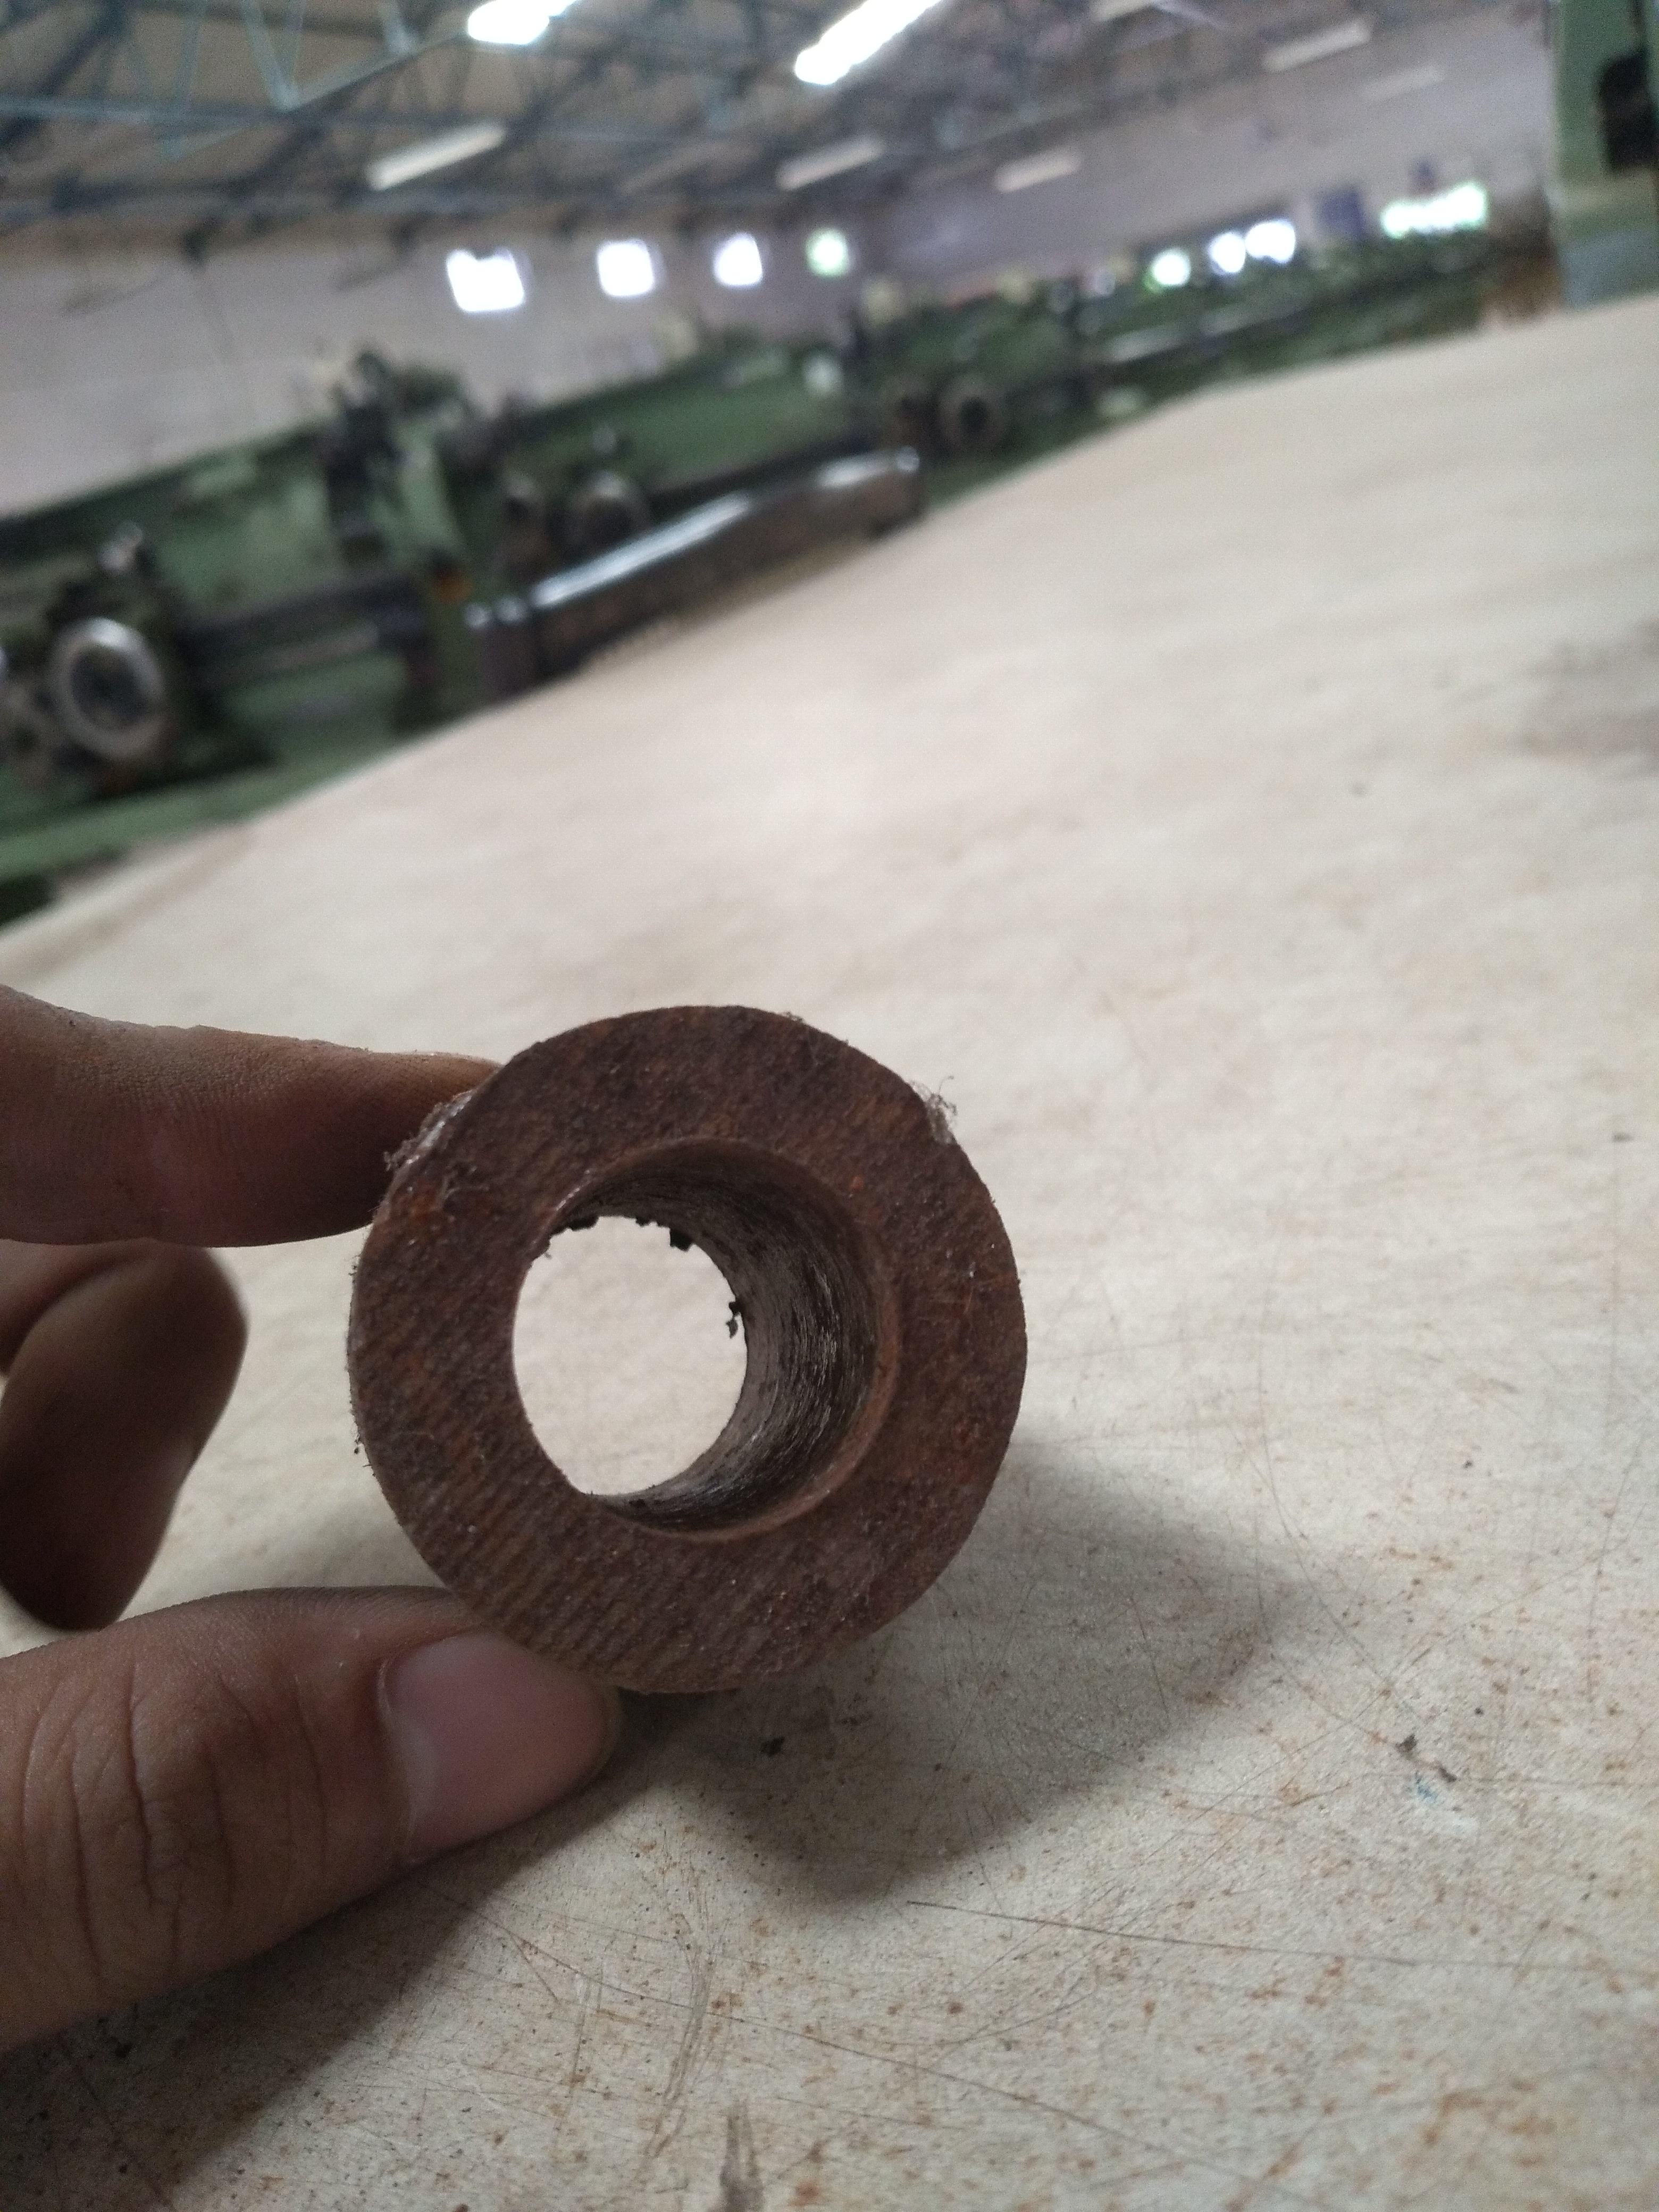No thread: (504, 1083, 925, 1595)
